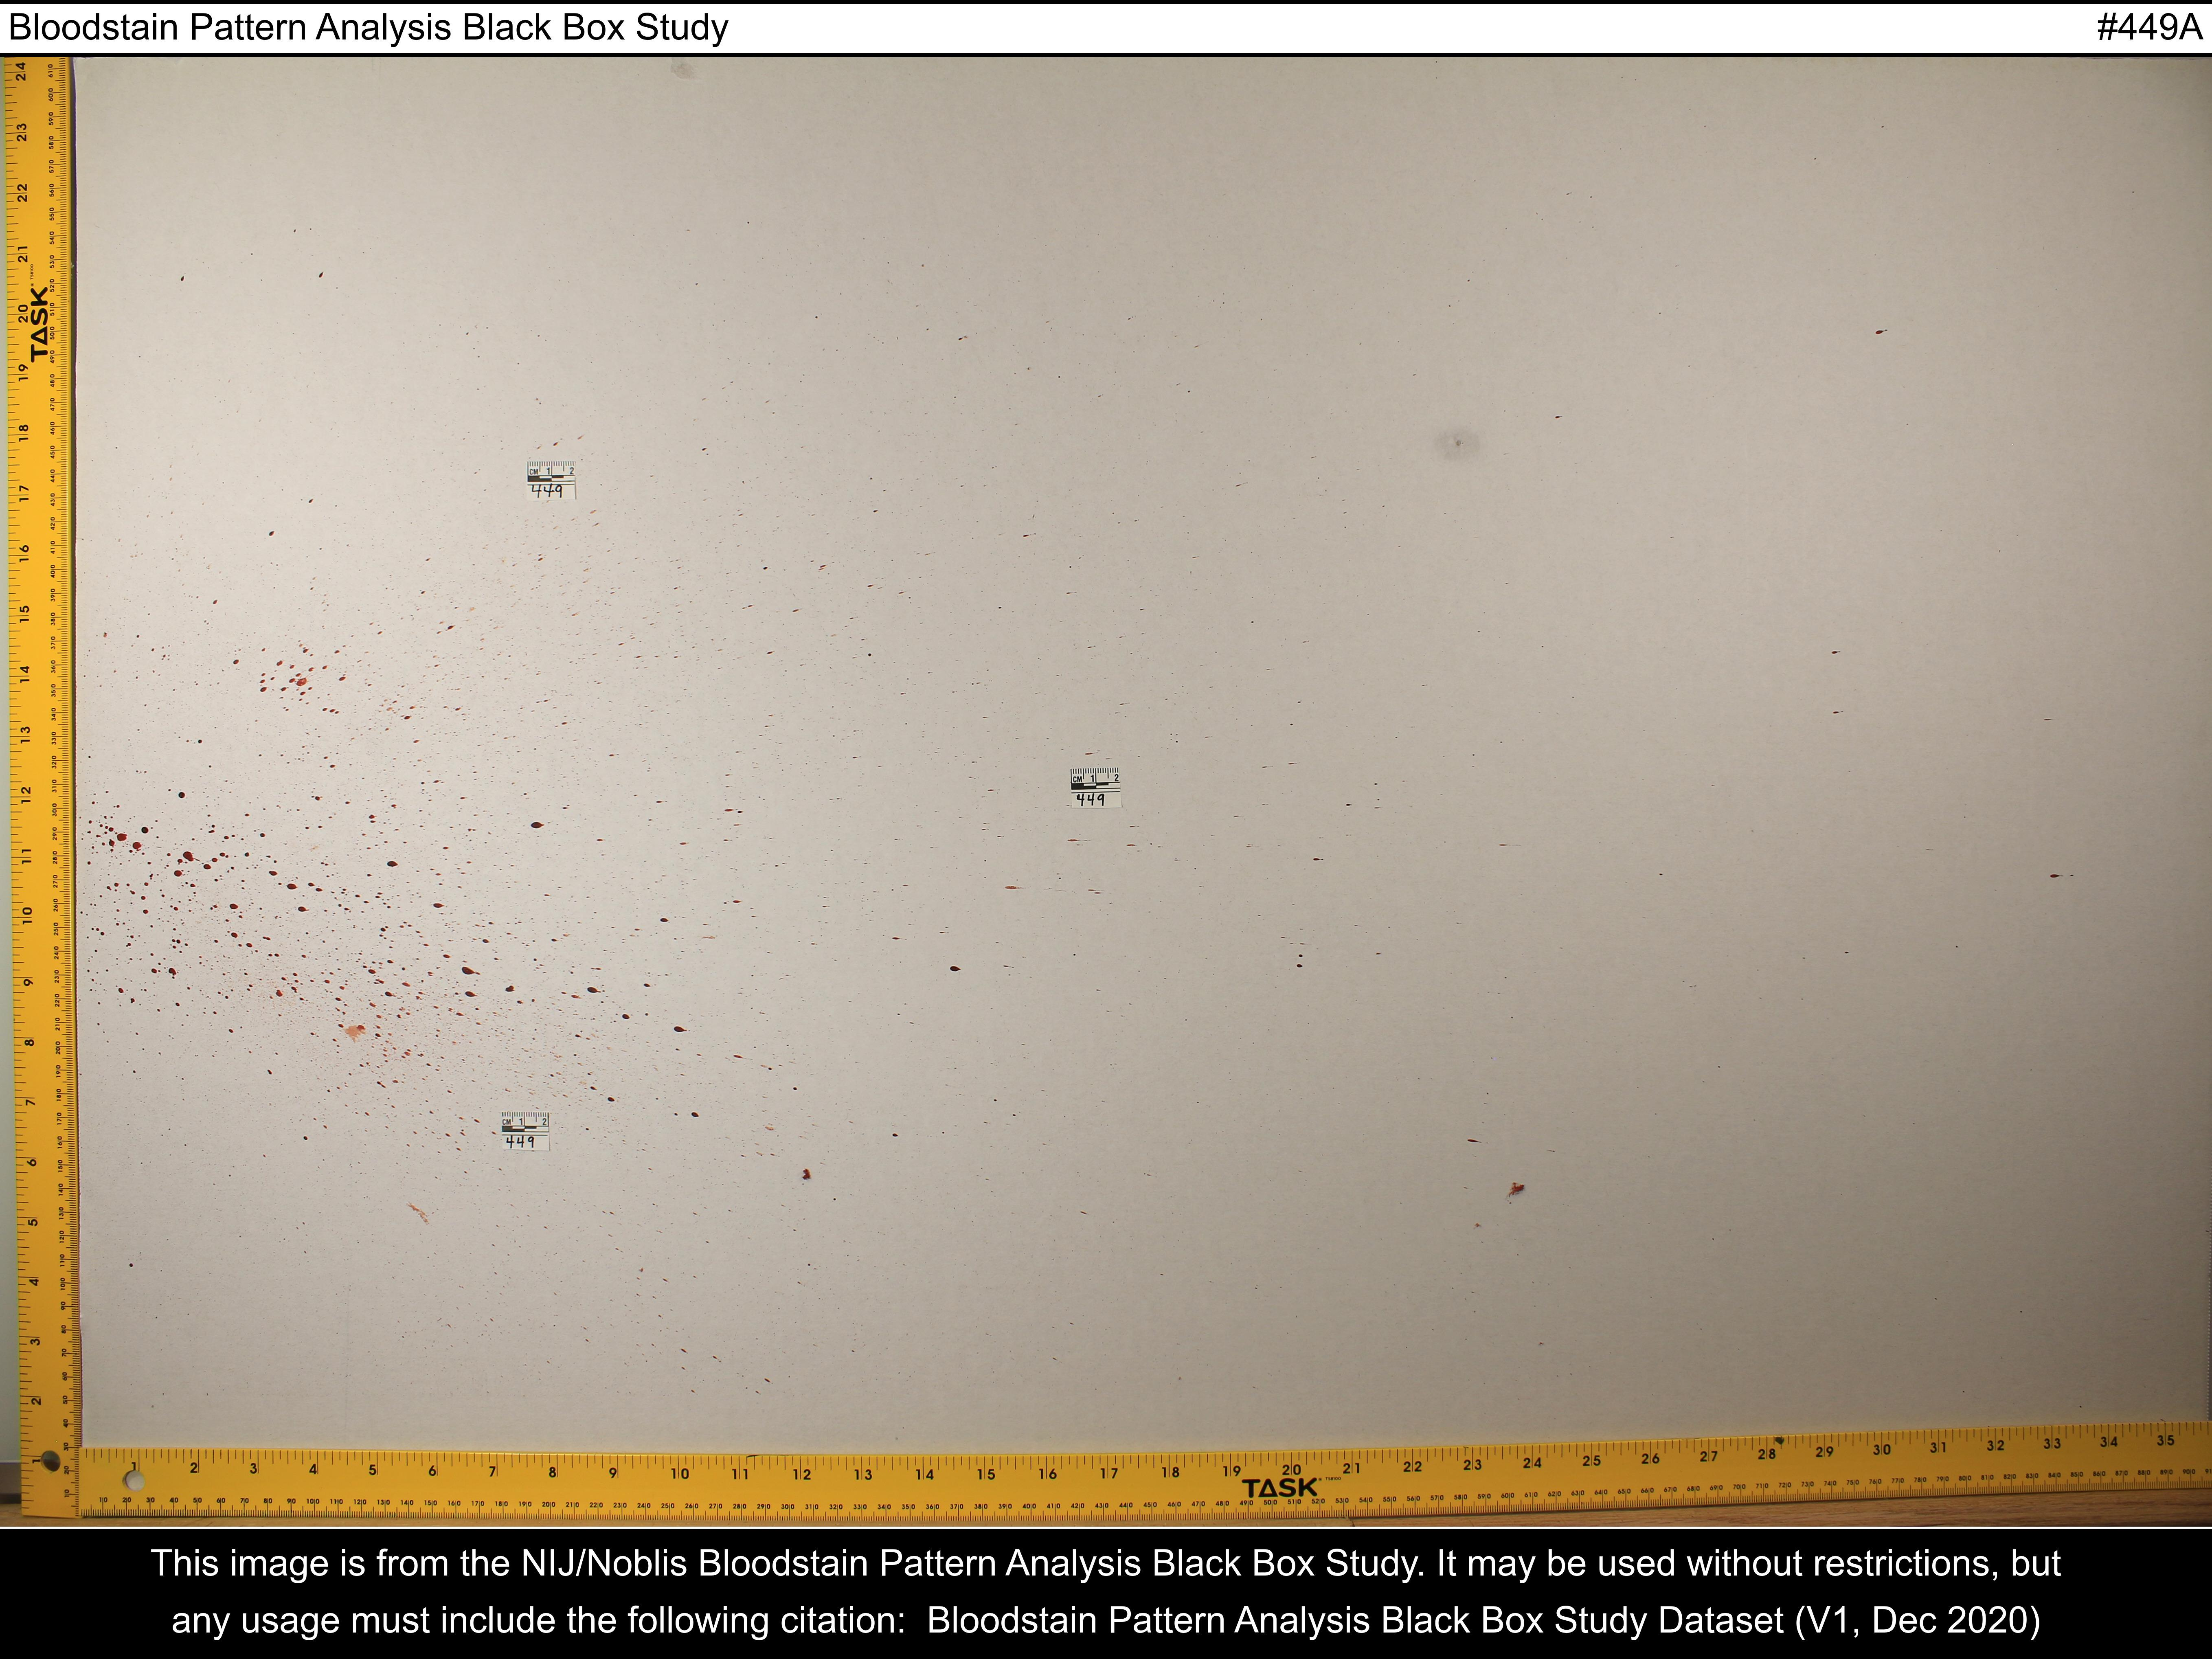Impact: (111, 584, 848, 1406)
